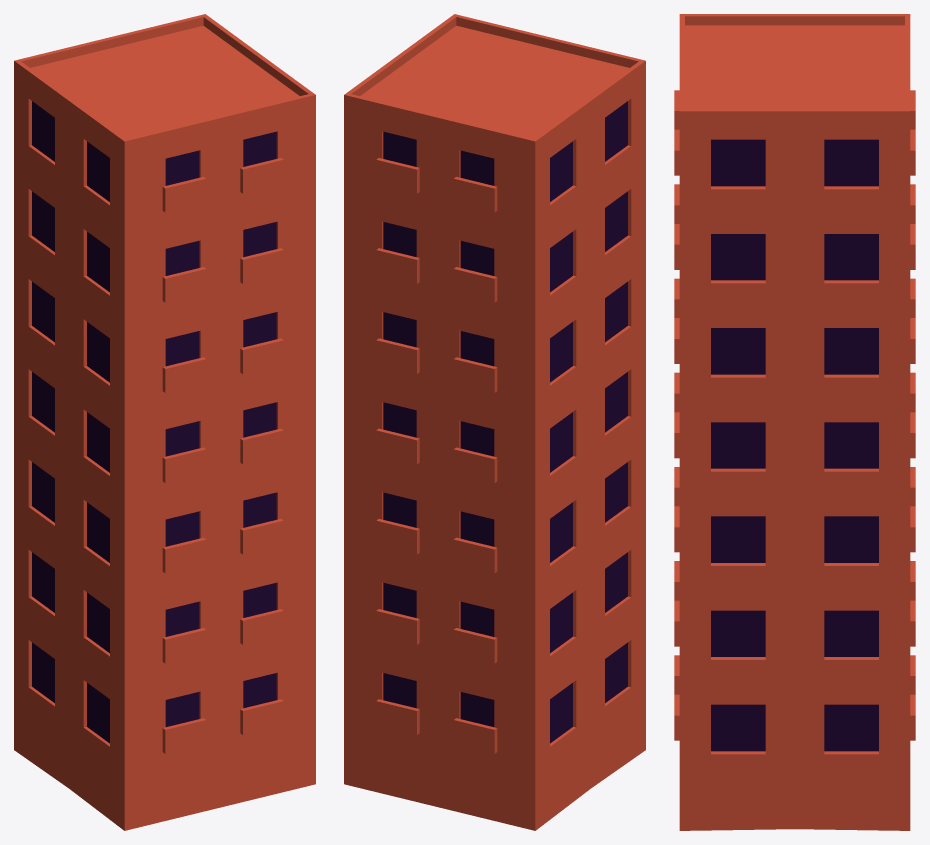
3 renders of one model, left to right at view 1: azimuth 30°, elevation 25°; view 2: azimuth 150°, elevation 25°; view 3: azimuth 270°, elevation 25°, orthographic. The views are drawn at different scales.
Visible parts, largest first — view 1: Plane; view 2: Plane; view 3: Plane.
Part boxes in pixels (box(x1,y1,x2,y2)): Plane: box(14, 14, 315, 830); Plane: box(344, 14, 645, 830); Plane: box(674, 14, 915, 830).
Size of the model in its own units: 585 by 2014 by 613.
